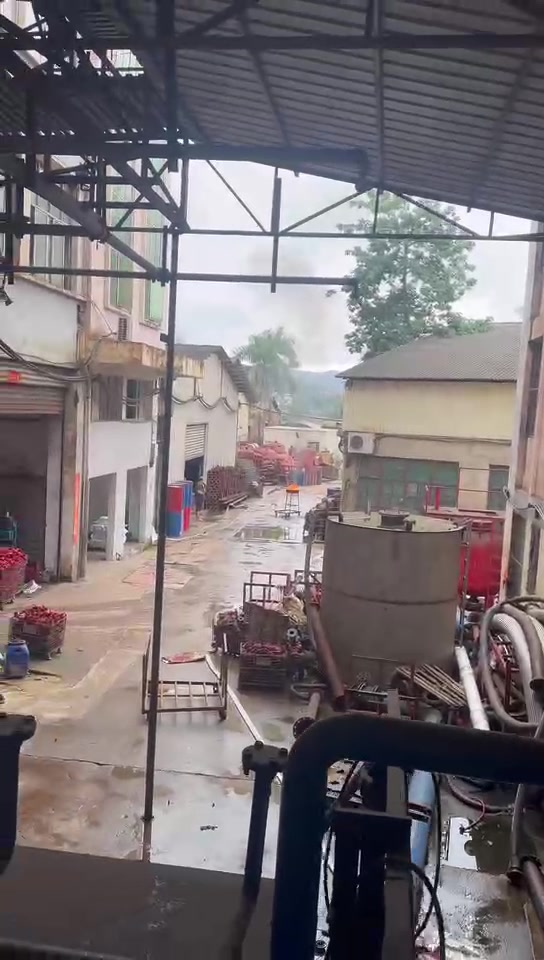fire: (285, 483, 298, 490)
